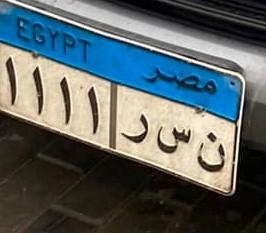1: (80, 84, 107, 139), (28, 63, 48, 117), (56, 73, 75, 127), (2, 55, 20, 109)
noon: (196, 129, 226, 177)
raa: (120, 111, 150, 149)
seen: (156, 121, 192, 163)
